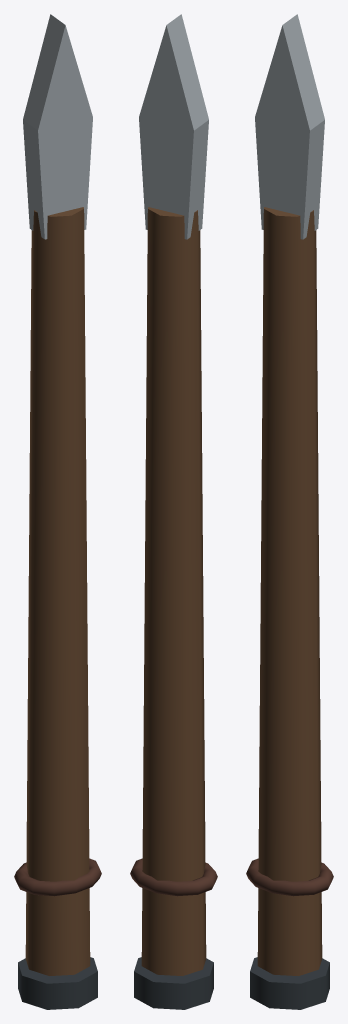
The model's file is lance.glb.
The picture shows the model from 3 angles, left to right: view 1: azimuth 30°, elevation 25°; view 2: azimuth 150°, elevation 25°; view 3: azimuth 330°, elevation 25°; orthographic projection.
Visible parts, largest first — view 1: lance-shaft, lance-head, lance-butt-cap, lance-grip-wrap; view 2: lance-shaft, lance-head, lance-butt-cap, lance-grip-wrap; view 3: lance-shaft, lance-head, lance-butt-cap, lance-grip-wrap.
Boxes of the visible parts, bbox=[...] form: lance-shaft: bbox=[25, 207, 90, 975]; lance-head: bbox=[23, 14, 92, 239]; lance-butt-cap: bbox=[18, 957, 97, 1009]; lance-grip-wrap: bbox=[14, 858, 101, 896]; lance-shaft: bbox=[141, 207, 206, 975]; lance-head: bbox=[139, 14, 208, 239]; lance-butt-cap: bbox=[134, 957, 213, 1009]; lance-grip-wrap: bbox=[130, 858, 217, 896]; lance-shaft: bbox=[257, 207, 322, 975]; lance-head: bbox=[255, 14, 324, 239]; lance-butt-cap: bbox=[250, 957, 329, 1009]; lance-grip-wrap: bbox=[246, 858, 333, 896].
Bounding box in the file's own units: 0.116 × 1.35 × 0.104.
